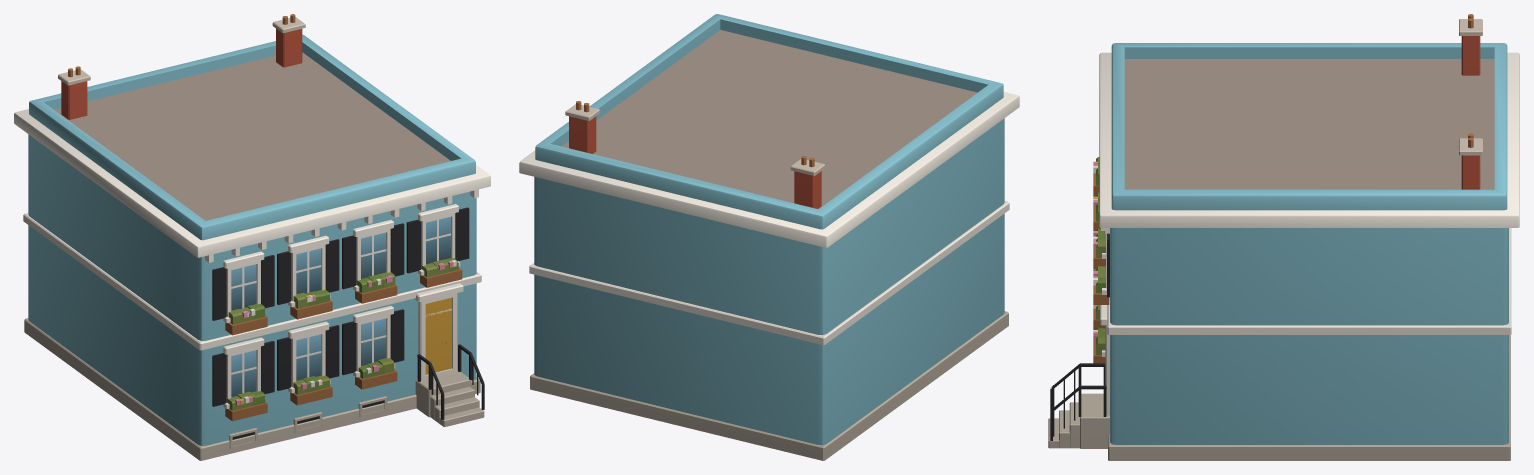
The model's file is beacon_ne6.glb.
3 renders of one model, left to right at view 1: azimuth 30°, elevation 25°; view 2: azimuth 150°, elevation 25°; view 3: azimuth 270°, elevation 25°, orthographic. The views are drawn at different scales.
Visible parts, largest first — view 1: beacon_ne6; view 2: beacon_ne6; view 3: beacon_ne6.
Boxes of the visible parts, x1,y1,x2,y2 form: beacon_ne6: (14, 14, 490, 460); beacon_ne6: (519, 14, 1019, 460); beacon_ne6: (1048, 14, 1519, 460).
Size of the model in its own units: 11.64 by 10.14 by 14.18.
1 material, 1 textured.
